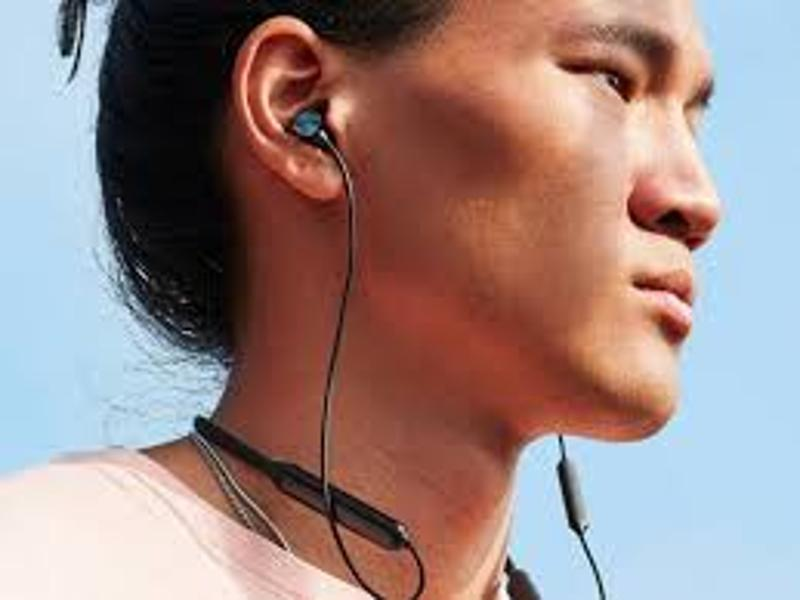headphone: (292, 104, 337, 153)
